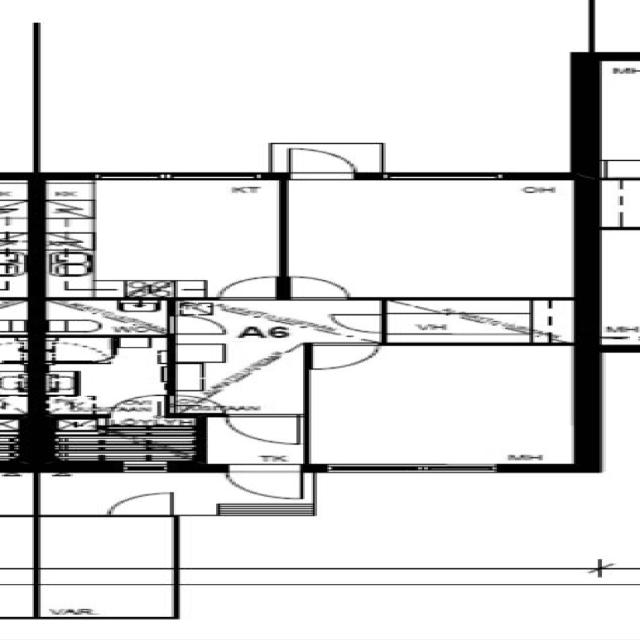door: (219, 465, 313, 503), (220, 413, 310, 446), (278, 146, 365, 179), (305, 340, 383, 371), (281, 273, 357, 302), (103, 490, 182, 516), (217, 274, 283, 301), (327, 312, 392, 336), (164, 314, 230, 336), (108, 394, 170, 417)
window: (322, 461, 511, 476), (377, 172, 530, 184), (114, 462, 177, 474)
zone: (282, 175, 584, 299), (306, 340, 584, 468), (36, 177, 290, 297), (35, 335, 174, 416), (379, 299, 575, 343), (33, 515, 177, 573), (42, 415, 205, 466), (38, 299, 173, 335), (42, 336, 112, 362)
